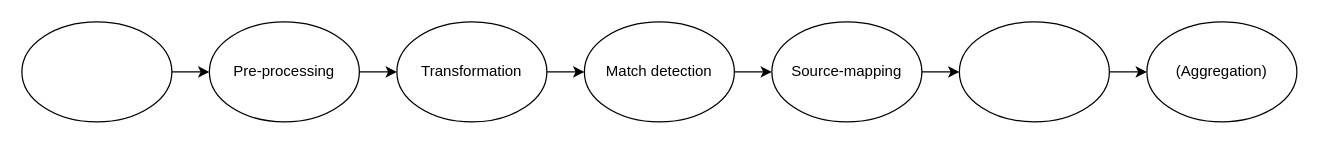
This 1319x144 diagram has some shape labels left out. Here are the shapes that lost their labels. From the top down, the centre of each, then its label:
At (x=96, y=71): "Source code".
At (x=1033, y=71): "Filtering".
